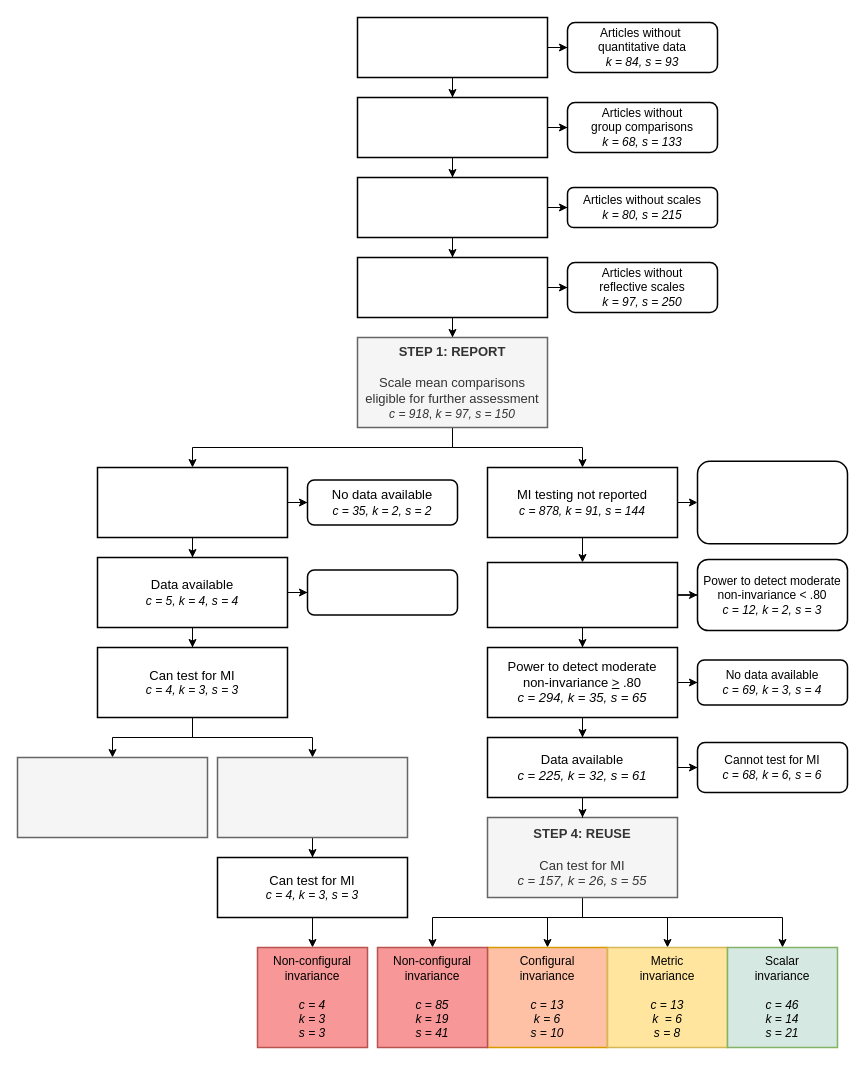
Some shapes in this 866 by 1066 pixel diagram are drawn without their labels. Here are the shapes that lost their labels. From the top down, the centre of each, then its label:
point 452,47: Full-text articles assessed for eligibility k = 426, s = 841
point 452,127: Articles with quantitative data k = 342, s = 748
point 452,207: Articles with group or time comparisons k = 274, s = 615
point 452,287: Articles with scales k = 194, s = 400
point 192,502: MI testing reported c = 40, k = 6, s = 6
point 772,502: Number of items and reliability estimate not reported c = 572, k = 54, s = 76
point 382,592: Cannot test for MI c = 1, k = 1, s = 1
point 582,594: Number of items and reliability estimate reported c = 306, k = 37, s = 68
point 112,797: STEP 2: REPRODUCE MI result reproduced c = 0, k = 0, s = 0
point 312,797: STEP 3: REASSESS MI result not reproduced c = 4, k = 3, s = 3
